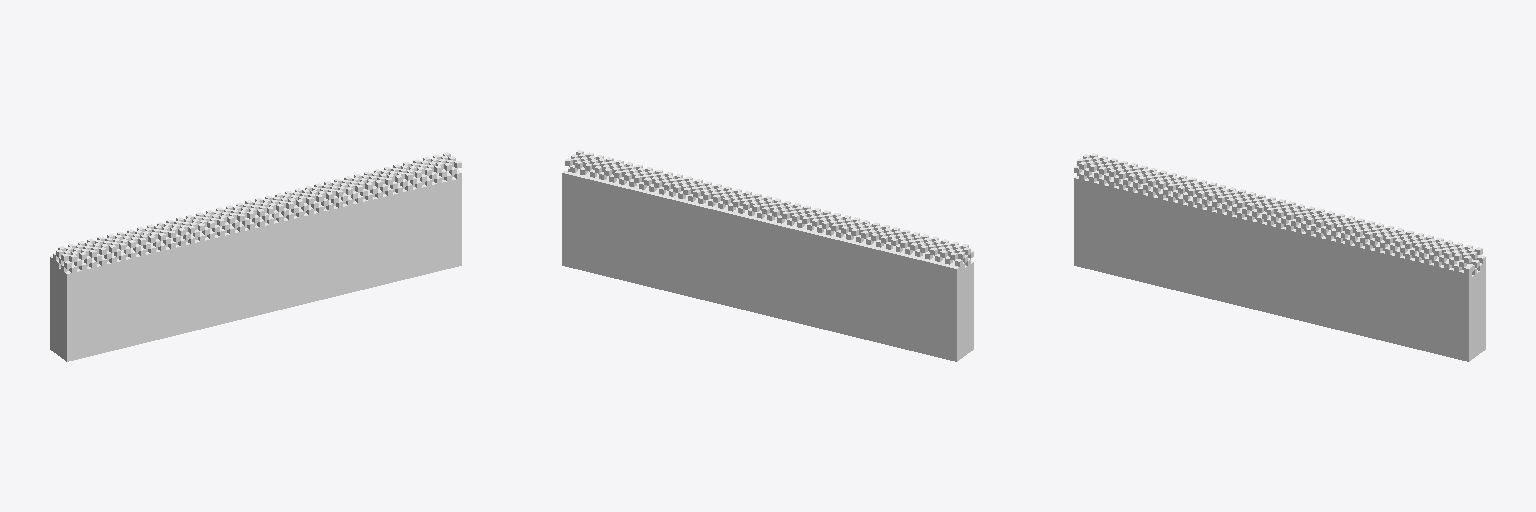
Rendered from goldenvoxelwall-2.obj.
The picture shows the model from 3 angles: view 1: azimuth 30°, elevation 25°; view 2: azimuth 150°, elevation 25°; view 3: azimuth 330°, elevation 25°; orthographic projection.
Visible parts, largest first — view 1: object 1; view 2: object 1; view 3: object 1.
Boxes of the visible parts, <box> form: object 1: <box>50,152,461,361</box>; object 1: <box>562,150,973,361</box>; object 1: <box>1074,153,1485,361</box>.
Bounding box in the file's own units: 16 × 4 × 1.2.